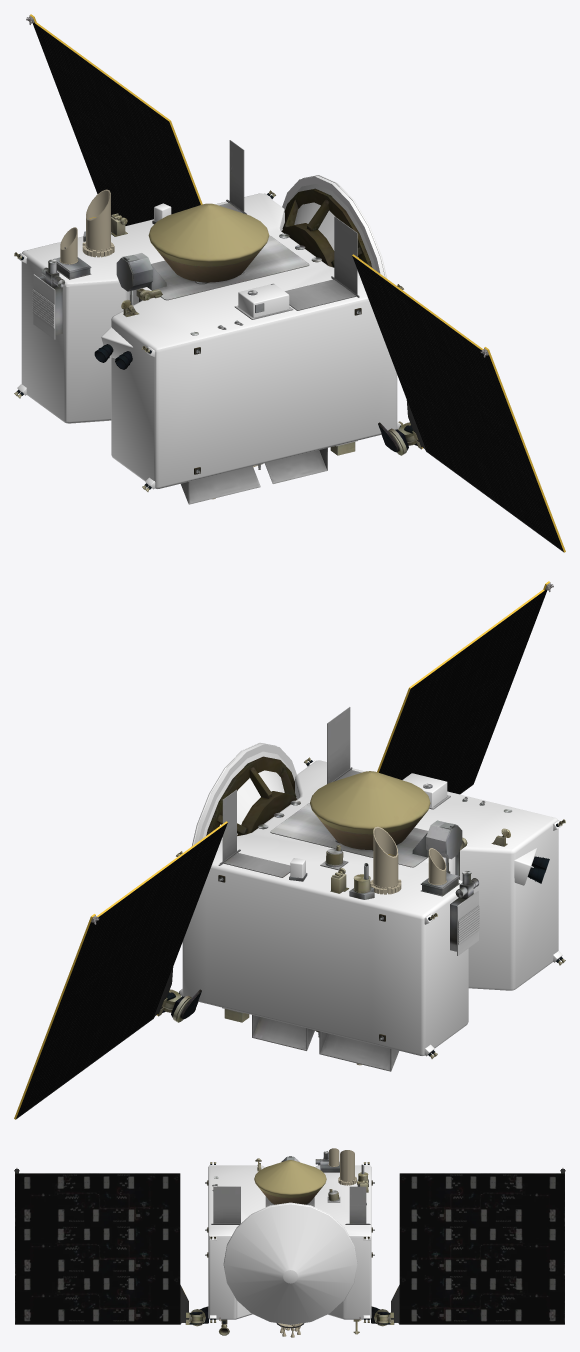
File: osiris_rex_articulated_panels.gltf
3 renders of one model, top to bottom at view 1: azimuth 30°, elevation 25°; view 2: azimuth 150°, elevation 25°; view 3: azimuth 270°, elevation 25°, orthographic. The views are drawn at different scales.
Parts seen in each view (by area): view 1: BUS, Array_Right, Array_Left, dunno, heatshield, Bus_plate_mounting, HGA_frame, HGA, Ovirs, polycam_big, instrument4, polycam_small (+2 smaller); view 2: BUS, Array_Left, Array_Right, dunno, heatshield, HGA_frame, Bus_plate_mounting, Ovirs, HGA, polycam_big, HGA.001, polycam_small (+2 smaller); view 3: Array_Left, Array_Right, HGA.001, BUS, heatshield, dunno, polycam_big, polycam_small.
Part boxes in pixels (x1,y1,x2,y2): BUS: [17, 193, 400, 489]; Array_Right: [352, 254, 565, 552]; Array_Left: [29, 14, 202, 225]; dunno: [181, 140, 359, 504]; heatshield: [148, 203, 269, 282]; Bus_plate_mounting: [147, 235, 309, 300]; HGA_frame: [281, 188, 372, 267]; HGA: [282, 175, 386, 277]; Ovirs: [32, 259, 65, 339]; polycam_big: [82, 189, 114, 257]; instrument4: [234, 283, 293, 319]; polycam_small: [53, 227, 91, 279]; BUS: [179, 760, 562, 1056]; Array_Left: [14, 821, 227, 1119]; Array_Right: [377, 581, 550, 794]; dunno: [218, 707, 398, 1071]; heatshield: [310, 771, 430, 849]; HGA_frame: [206, 756, 297, 835]; Bus_plate_mounting: [270, 803, 428, 867]; Ovirs: [450, 871, 479, 955]; HGA: [192, 742, 296, 845]; polycam_big: [370, 826, 401, 894]; HGA.001: [191, 750, 284, 846]; polycam_small: [420, 848, 459, 896]; Array_Left: [391, 1169, 564, 1324]; Array_Right: [15, 1169, 188, 1324]; HGA.001: [223, 1203, 357, 1324]; BUS: [208, 1165, 371, 1319]; heatshield: [254, 1160, 326, 1204]; dunno: [211, 1186, 370, 1321]; polycam_big: [338, 1150, 356, 1185]; polycam_small: [320, 1148, 339, 1172].
Size of the model in its own units: 2.47 by 2.23 by 6.22.
8 materials, 2 textured.
